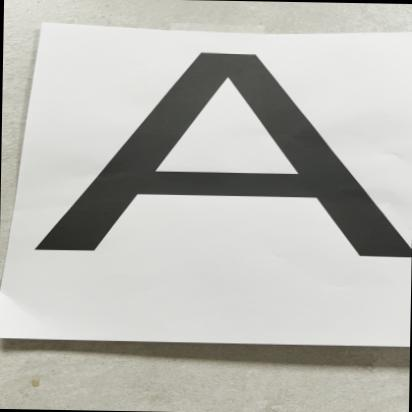seat: (18, 34, 412, 278)
